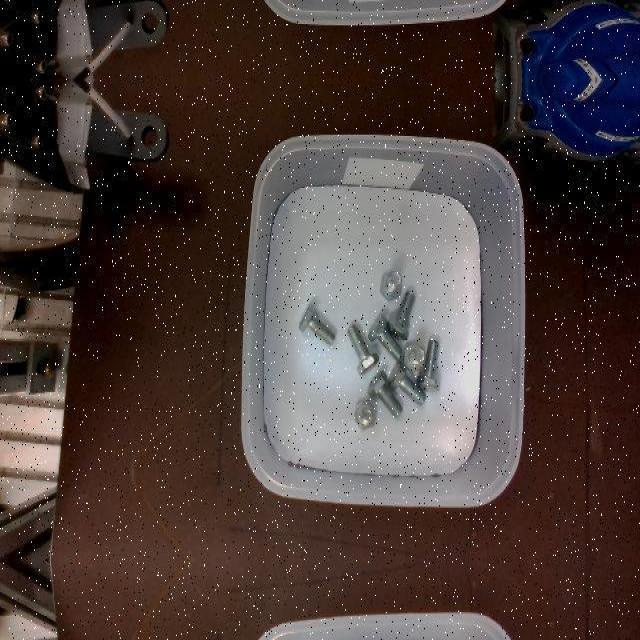screw: (388, 360, 426, 406), (366, 370, 402, 418), (346, 324, 378, 376), (368, 314, 402, 360), (298, 303, 334, 345), (386, 290, 414, 340), (416, 338, 440, 390), (353, 398, 377, 428), (380, 271, 402, 301), (404, 341, 425, 371)
